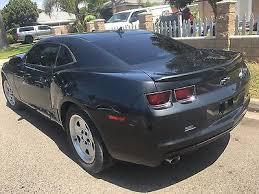quaterpanel-dent: (58, 74, 133, 119)
